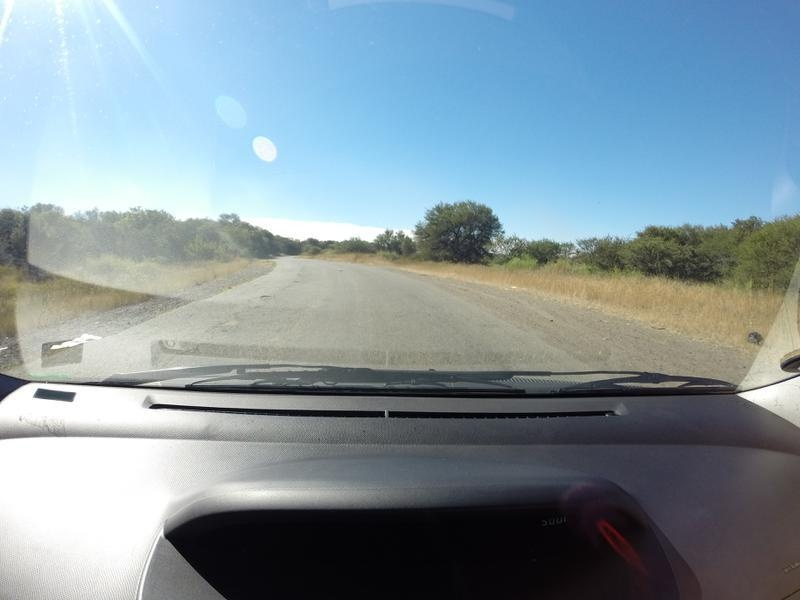pothole: (252, 291, 278, 305)
